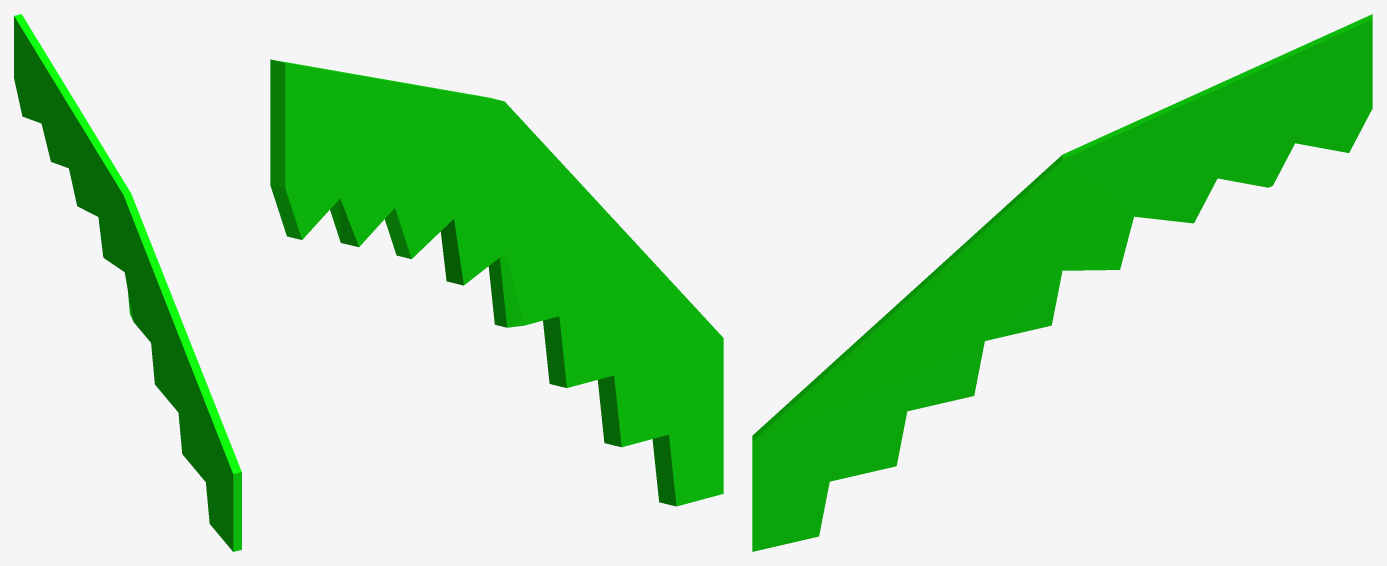
File: SM_Roof_Regular_Moderate_1x2m_Decor_Fantasy.fbx
The picture shows the model from 3 angles, left to right: view 1: azimuth 30°, elevation 25°; view 2: azimuth 150°, elevation 25°; view 3: azimuth 270°, elevation 25°; orthographic projection. The views are drawn at different scales.
Visible parts, largest first — view 1: roof-regular-moderate-1x2m-decor-fantasy; view 2: roof-regular-moderate-1x2m-decor-fantasy; view 3: roof-regular-moderate-1x2m-decor-fantasy.
Part boxes in pixels (<box>): roof-regular-moderate-1x2m-decor-fantasy: <box>14,14,241,551</box>; roof-regular-moderate-1x2m-decor-fantasy: <box>270,59,723,506</box>; roof-regular-moderate-1x2m-decor-fantasy: <box>752,14,1372,551</box>.
Size of the model in its own units: 0.0456 by 1.89 by 2.
